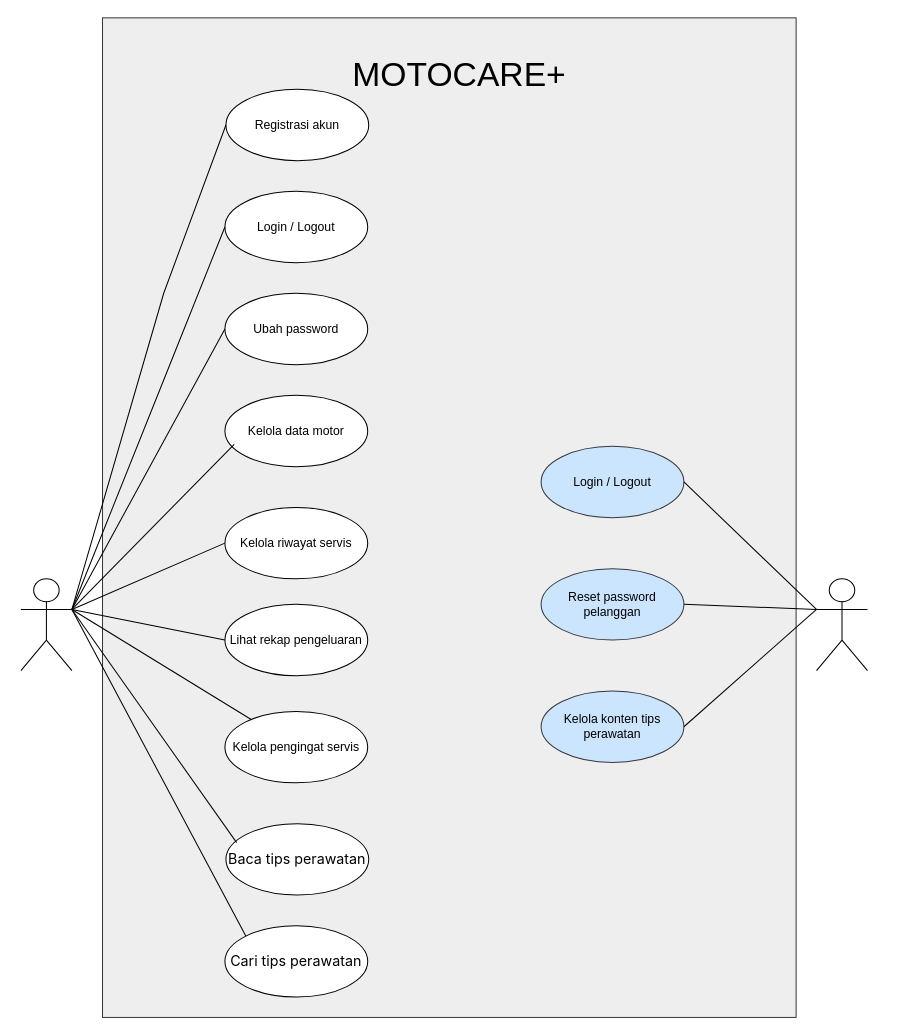
Some shapes in this 898 by 1035 pixel diagram are drawn without their labels. Here are the shapes that lost their labels. From the top down, the centre of each, then its label:
At (46,624): "Pelanggan".
At (841,624): "Admin Sistem".
